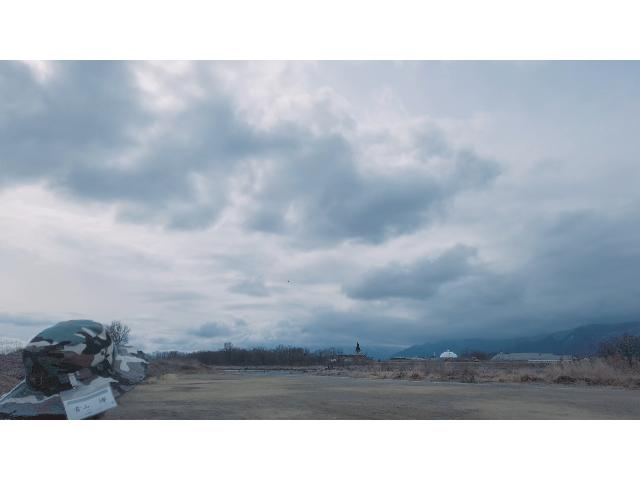Anti-Drone: (283, 277, 295, 285)
